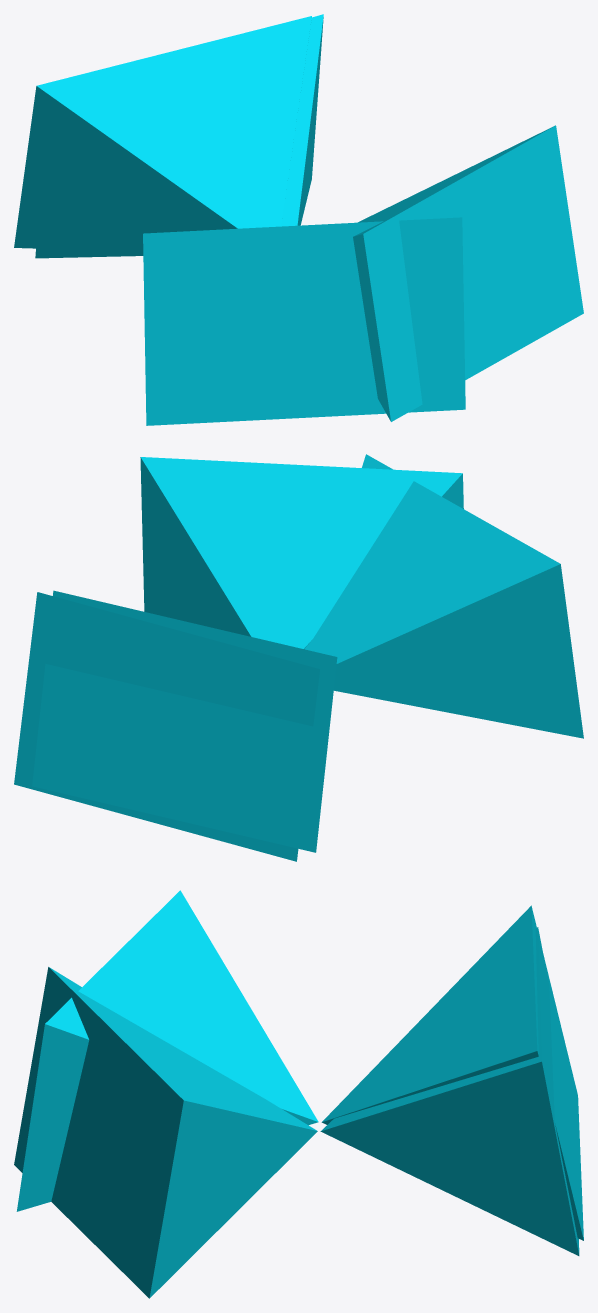
The picture shows the model from 3 angles, top to bottom: view 1: azimuth 30°, elevation 25°; view 2: azimuth 150°, elevation 25°; view 3: azimuth 270°, elevation 25°; orthographic projection. The views are drawn at different scales.
Visible parts, largest first — view 1: field of view front-right, field of view back-right, field of view front-left, field of view back-left; view 2: field of view front-right, field of view back-right, field of view front-left, field of view back-left; view 3: field of view front-left, field of view front-right, field of view back-left, field of view back-right.
Part boxes in pixels (x1,y1,x2,y2): field of view front-right: [143, 217, 465, 425]; field of view back-right: [14, 16, 311, 251]; field of view front-left: [353, 125, 583, 421]; field of view back-left: [35, 14, 323, 258]; field of view front-right: [305, 454, 583, 738]; field of view back-right: [32, 590, 337, 852]; field of view front-left: [140, 457, 463, 649]; field of view back-left: [14, 592, 319, 861]; field of view front-left: [14, 967, 317, 1298]; field of view front-right: [16, 890, 318, 1211]; field of view back-left: [320, 927, 579, 1255]; field of view back-right: [321, 905, 583, 1240].
Size of the model in its own units: 15.61 by 6.63 by 16.49.
